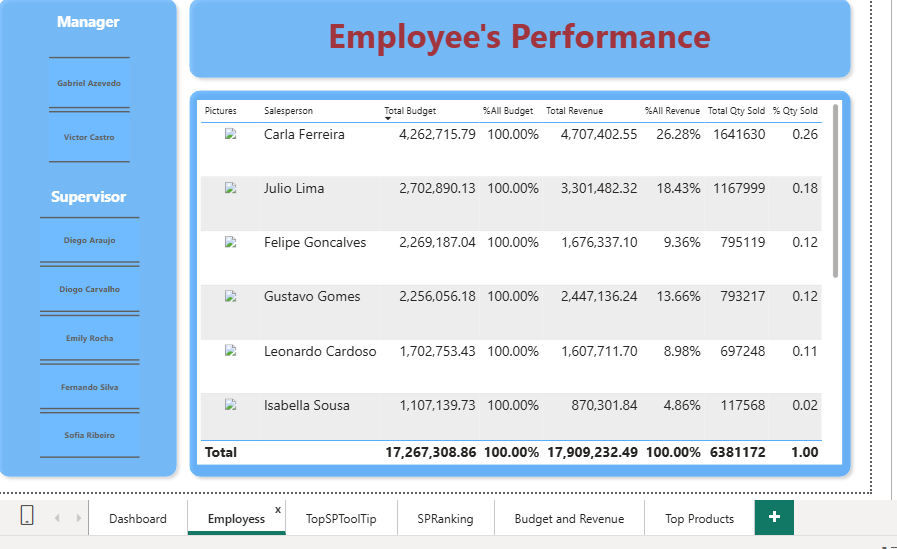

The page's visual inventory and layout, read from the dashboard file:
{"tool":"powerbi","page":{"name":"Employess","canvas":[1280,720],"ordinal":1},"visuals":[{"type":"shape","box":[289.4,0,970.6,132.5],"z":0},{"type":"shape","box":[14.4,0,275,707],"z":1000},{"type":"textbox","box":[388.8,23,770.4,86.4],"z":2000},{"type":"shape","box":[289.4,132.5,970.6,574.6],"z":3000},{"type":"tableEx","fields":{"Values":["Dimension table.Salesperson.1.URL","Dimension table.Salesperson","All Measures.Total Budget","All Measures.%All Budget","All Measures.Total Revenue","All Measures.%All Revenue","All Measures.Total Qty Sold","All Measures.% Qty Sold"]},"box":[310.3,155.9,929.4,525],"z":4000},{"type":"slicer","title":"Supervisor","fields":{"Values":["Fact Table.Supervisor"]},"box":[57.6,316.8,193,361.4],"z":5000},{"type":"textbox","box":[76.3,275,154.1,41.8],"z":6000},{"type":"slicer","fields":{"Values":["Fact Table.Manager"]},"box":[70.6,86.4,165.6,165.6],"z":7000},{"type":"textbox","box":[76.3,23,152.6,41.8],"z":8000}]}

Visuals, with their boxes on the page's 1280x720 design canvas (x1, y1, x2, y2). These are canvas units, not pixel positions in the 897x549 screenshot, which may show the page scaled, cropped or inside an application window:
shape: locate(289, 0, 1260, 132)
shape: locate(14, 0, 289, 707)
textbox: locate(389, 23, 1159, 109)
shape: locate(289, 132, 1260, 707)
tableEx - Dimension table.Salesperson.1.URL x Dimension table.Salesperson: locate(310, 156, 1240, 681)
"Supervisor" slicer: locate(58, 317, 251, 678)
textbox: locate(76, 275, 230, 317)
slicer - Fact Table.Manager: locate(71, 86, 236, 252)
textbox: locate(76, 23, 229, 65)
